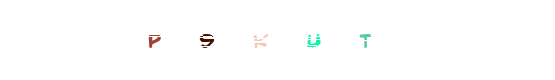9: (167, 0, 247, 80)
K: (199, 0, 279, 80)
P: (121, 0, 201, 80)
T: (296, 0, 376, 80)
U: (237, 0, 317, 80)
